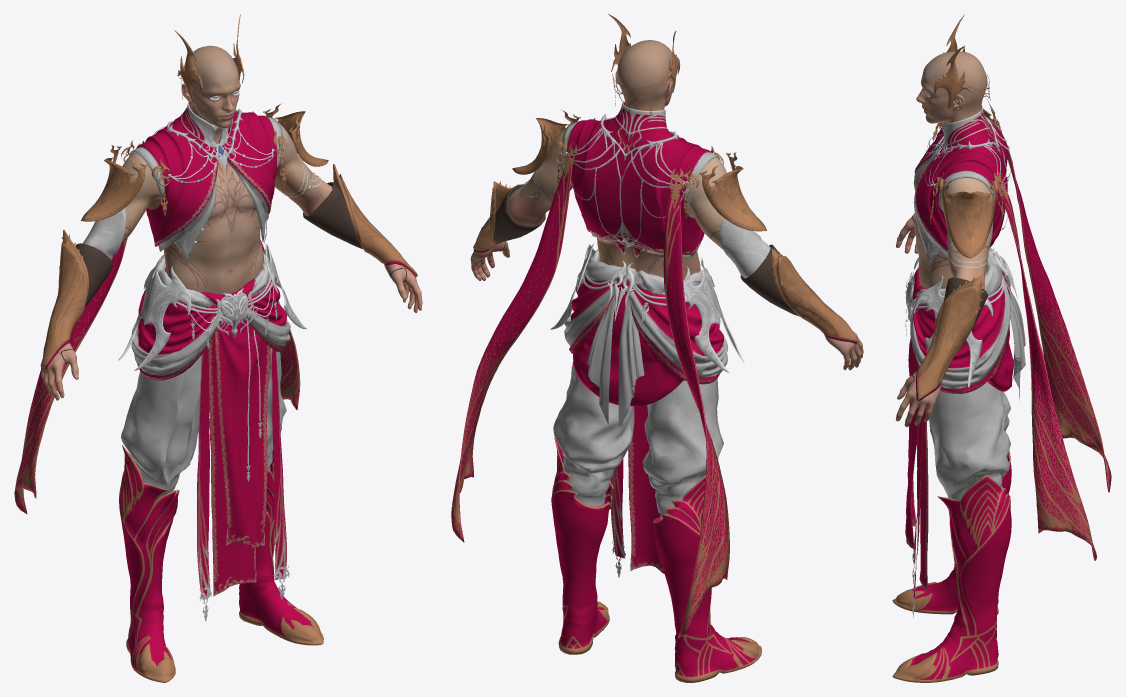
The picture shows the model from 3 angles, left to right: view 1: azimuth 30°, elevation 25°; view 2: azimuth 150°, elevation 25°; view 3: azimuth 270°, elevation 25°; orthographic projection. The views are drawn at different scales.
Parts seen in each view (by area): view 1: GM_Kromede_01_Pants, GM_Kromede_01_Body, GM_Kromede_01_Boots, GM_Kromede_01_Glove, GM_Kromede_01_Cape, GM_Kromede_01_Shoulder, GM_BaseHead, GM_Kromede_01_Helmet; view 2: GM_Kromede_01_Pants, GM_Kromede_01_Body, GM_Kromede_01_Boots, GM_Kromede_01_Cape, GM_Kromede_01_Glove, GM_Kromede_01_Shoulder, GM_BaseHead, GM_Kromede_01_Helmet; view 3: GM_Kromede_01_Pants, GM_Kromede_01_Cape, GM_Kromede_01_Boots, GM_Kromede_01_Body, GM_Kromede_01_Glove, GM_Kromede_01_Shoulder, GM_BaseHead, GM_Kromede_01_Helmet.
Boxes of the visible parts, bbox=[...] form: GM_Kromede_01_Pants: bbox=[118, 243, 306, 621]; GM_Kromede_01_Body: bbox=[40, 101, 422, 400]; GM_Kromede_01_Boots: bbox=[119, 445, 323, 682]; GM_Kromede_01_Glove: bbox=[43, 164, 417, 368]; GM_Kromede_01_Cape: bbox=[14, 141, 300, 513]; GM_Kromede_01_Shoulder: bbox=[81, 103, 328, 221]; GM_BaseHead: bbox=[181, 45, 240, 141]; GM_Kromede_01_Helmet: bbox=[174, 14, 244, 103]; GM_Kromede_01_Pants: bbox=[550, 243, 744, 577]; GM_Kromede_01_Body: bbox=[470, 101, 863, 370]; GM_Kromede_01_Boots: bbox=[551, 437, 761, 682]; GM_Kromede_01_Cape: bbox=[451, 142, 729, 638]; GM_Kromede_01_Glove: bbox=[473, 181, 858, 343]; GM_Kromede_01_Shoulder: bbox=[512, 109, 766, 231]; GM_BaseHead: bbox=[615, 40, 673, 110]; GM_Kromede_01_Helmet: bbox=[608, 14, 680, 118]; GM_Kromede_01_Pants: bbox=[905, 247, 1025, 618]; GM_Kromede_01_Cape: bbox=[994, 122, 1111, 560]; GM_Kromede_01_Boots: bbox=[892, 450, 1011, 682]; GM_Kromede_01_Body: bbox=[895, 104, 1011, 426]; GM_Kromede_01_Glove: bbox=[909, 213, 987, 400]; GM_Kromede_01_Shoulder: bbox=[930, 98, 1003, 258]; GM_BaseHead: bbox=[916, 51, 986, 125]; GM_Kromede_01_Helmet: bbox=[934, 14, 990, 117].
Bounding box in the file's own units: 1.25 × 1.97 × 0.6395.
Materials: 10 (9 with a texture image).
